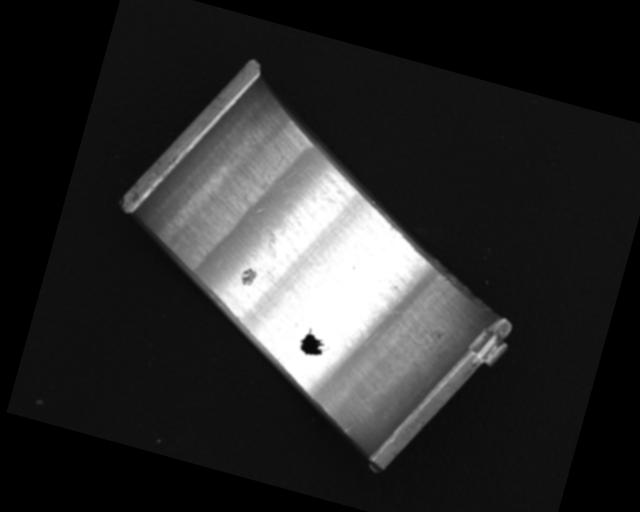blot: (297, 326, 335, 361)
bruise: (237, 264, 260, 289)
nick: (343, 421, 356, 436)
